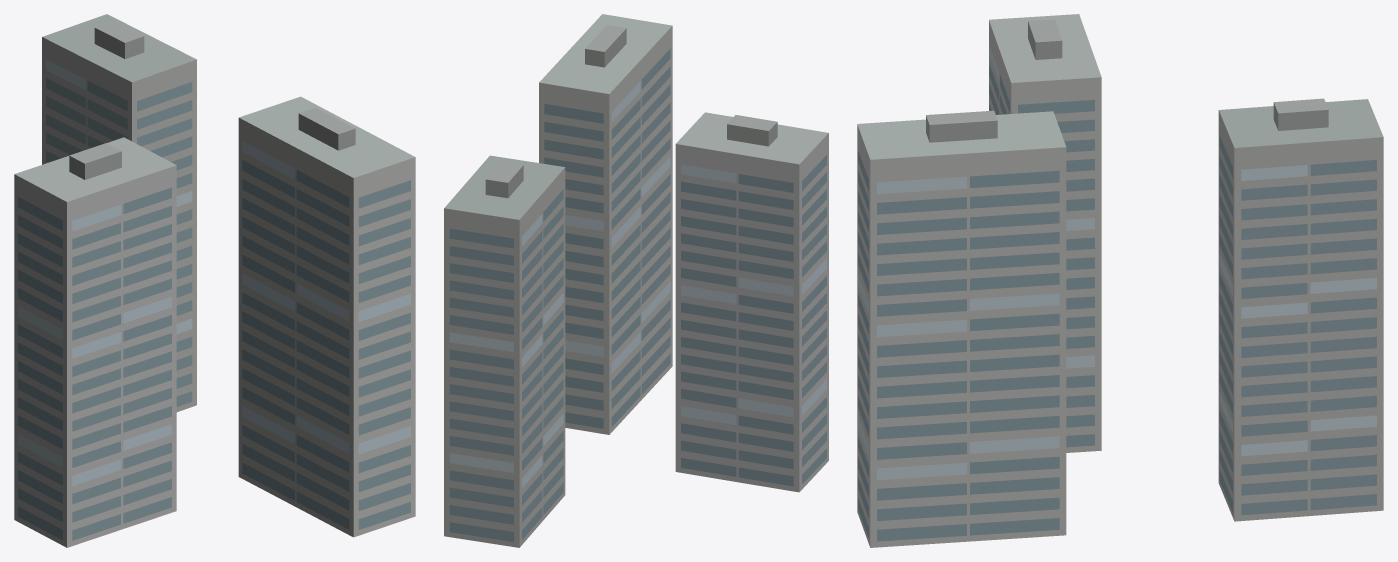
The model's file is apt-a15176602.glb.
The picture shows the model from 3 angles, left to right: view 1: azimuth 30°, elevation 25°; view 2: azimuth 150°, elevation 25°; view 3: azimuth 270°, elevation 25°; orthographic projection. The views are drawn at different scales.
Visible parts, largest first — view 1: apt-a15176602; view 2: apt-a15176602; view 3: apt-a15176602.
Part boxes in pixels (<box>): apt-a15176602: <box>14,14,415,547</box>; apt-a15176602: <box>444,14,828,547</box>; apt-a15176602: <box>857,14,1383,547</box>.
Bounding box in the file's own units: 46.63 × 55 × 64.64.
